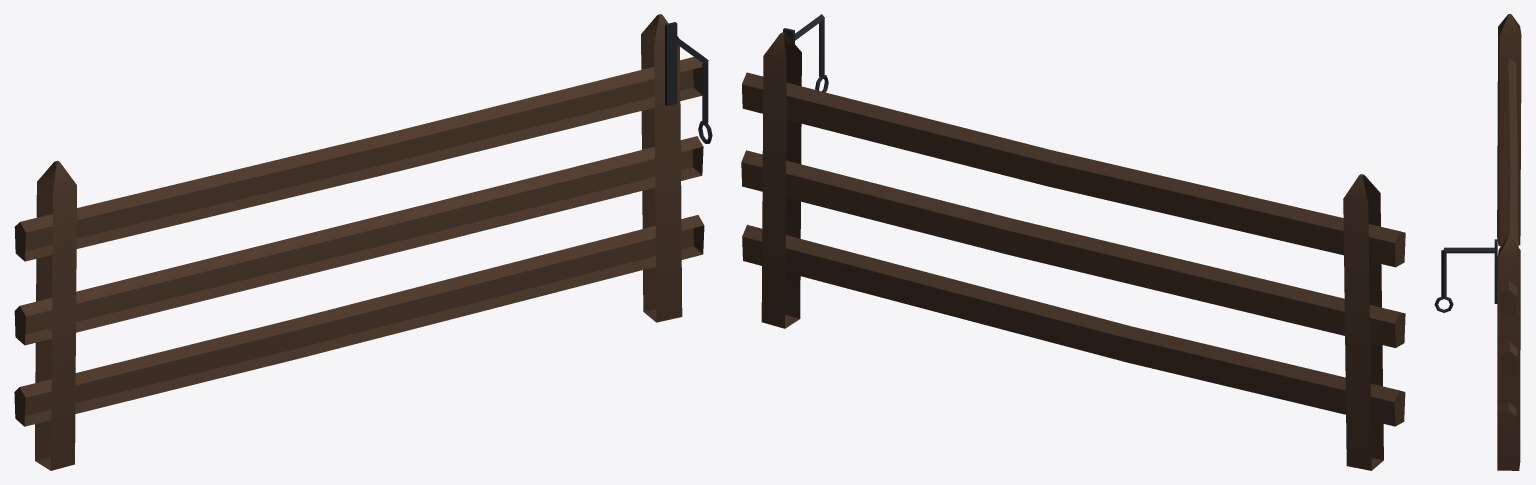
Rendered from fence_b.glb.
3 renders of one model, left to right at view 1: azimuth 30°, elevation 25°; view 2: azimuth 150°, elevation 25°; view 3: azimuth 270°, elevation 25°, orthographic. The views are drawn at different scales.
Visible parts, largest first — view 1: isl_fence_b; view 2: isl_fence_b; view 3: isl_fence_b.
Part boxes in pixels (x1,y1,x2,y2): isl_fence_b: (14,14,712,470); isl_fence_b: (741,14,1405,470); isl_fence_b: (1434,14,1521,470).
Bounding box in the file's own units: 2.3 × 0.9707 × 0.3364.
